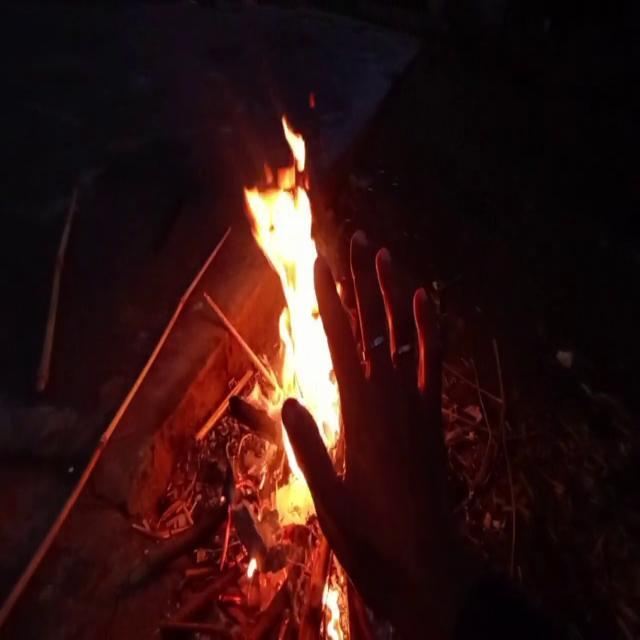Fire: (240, 122, 354, 504), (316, 562, 349, 640)
